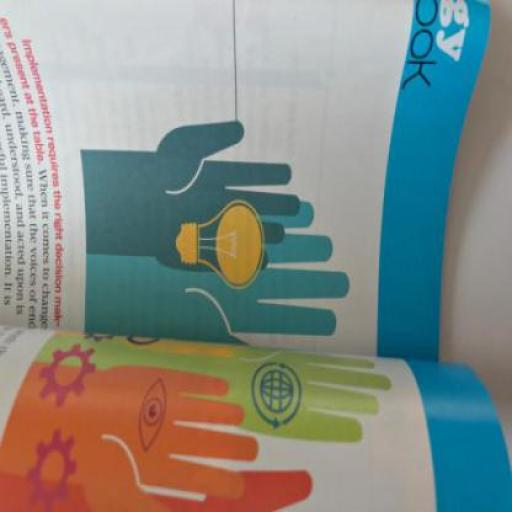paper: (0, 0, 511, 511), (0, 0, 491, 362), (0, 328, 511, 510)
